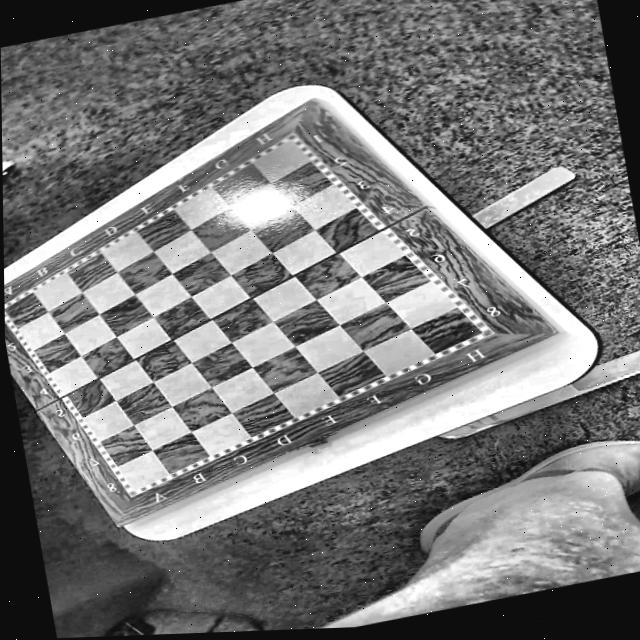chessboard: (5, 138, 481, 491)
